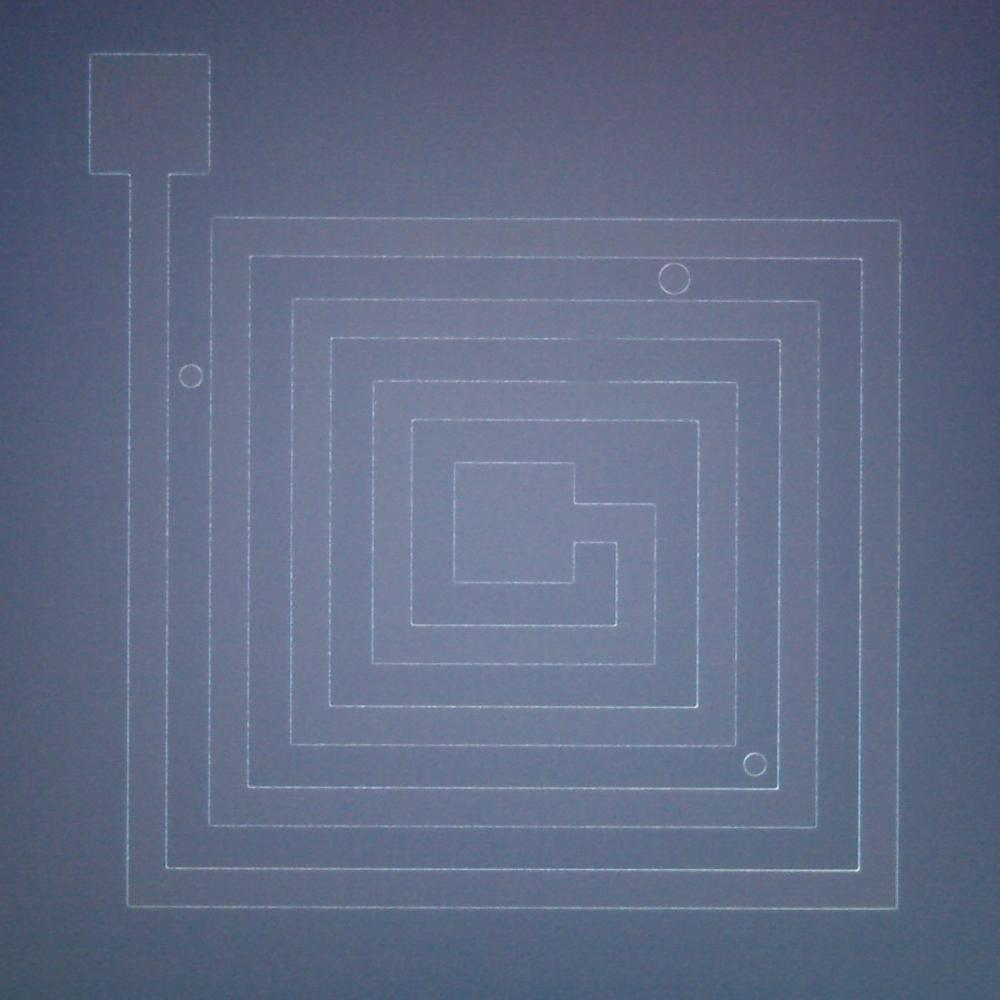circle: (657, 260, 693, 296), (174, 358, 207, 394), (742, 746, 768, 780)
